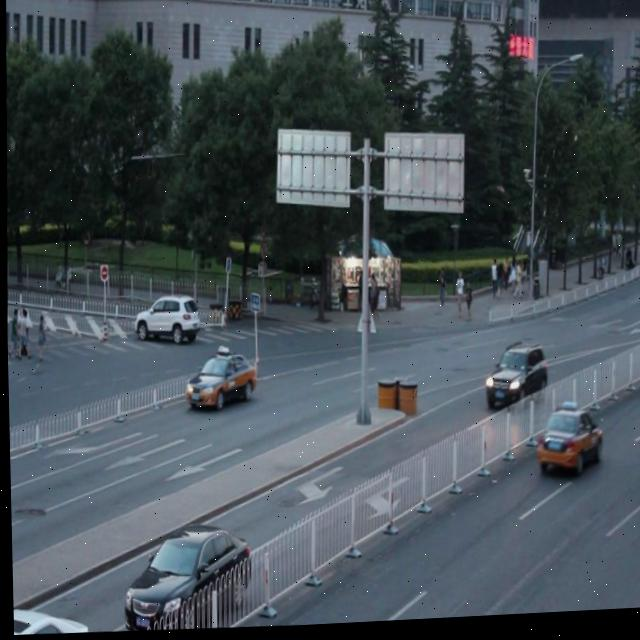car: (118, 522, 251, 634), (179, 351, 258, 416), (478, 344, 549, 416), (534, 408, 600, 481), (132, 294, 201, 349), (11, 601, 89, 635), (638, 423, 640, 497)
